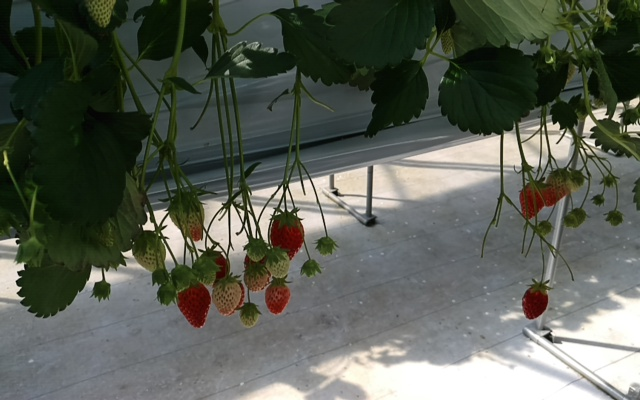GreenStrawberry: (165, 191, 205, 242), (131, 230, 168, 273), (211, 275, 241, 317), (543, 166, 572, 208), (265, 248, 291, 280), (244, 261, 269, 292), (238, 302, 262, 330), (193, 256, 215, 285), (169, 266, 192, 292), (246, 240, 268, 263)
MatureStrawberry: (268, 209, 305, 263), (174, 278, 213, 329), (198, 245, 231, 287), (517, 176, 548, 219), (521, 281, 550, 320), (265, 279, 291, 315)
